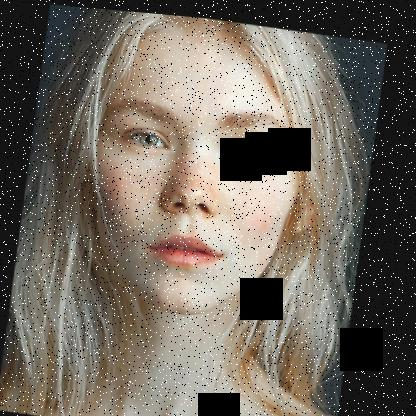Female: (73, 8, 333, 323)
